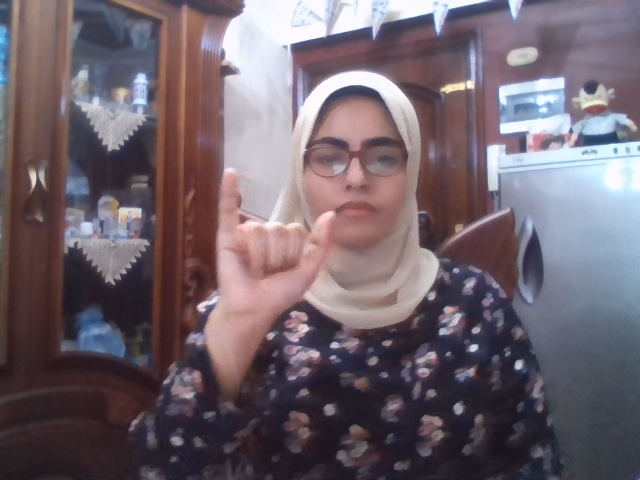Y: (217, 169, 335, 316)
